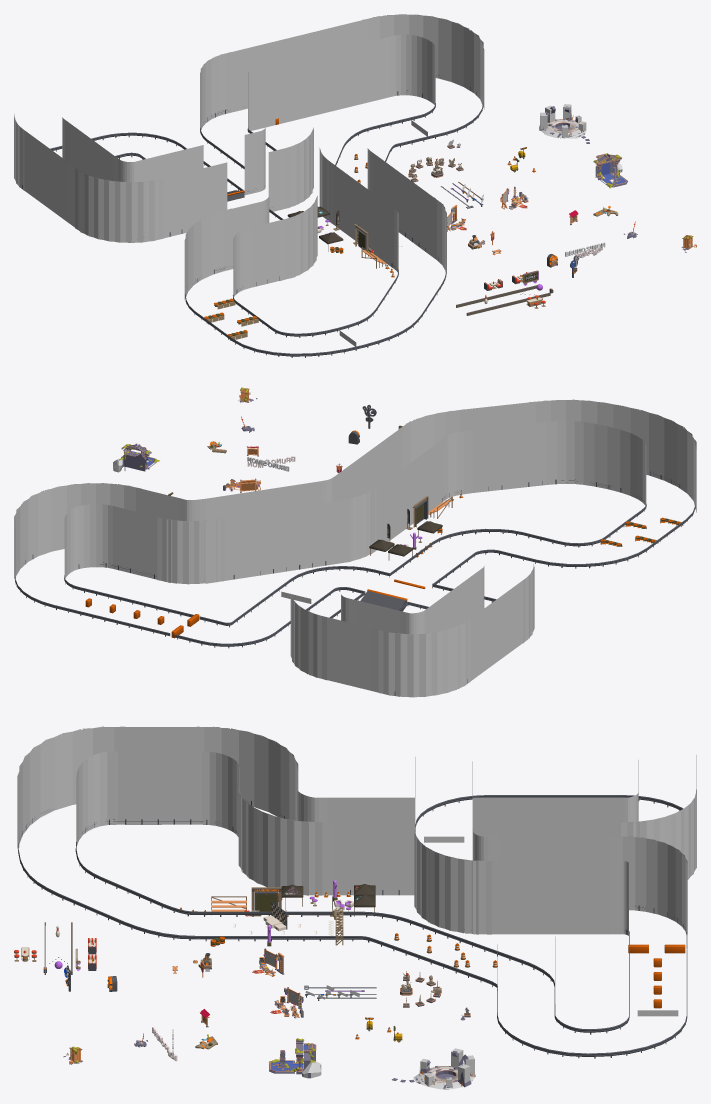
File: areas-compressed.glb
3 renders of one model, top to bottom at view 1: azimuth 30°, elevation 25°; view 2: azimuth 150°, elevation 25°; view 3: azimuth 270°, elevation 25°, orthographic. The views are drawn at different scales.
Parts seen in each view (by area): view 1: trimesh, refRailsPhysicalFixed, Cube089, Plane119_1, blocks; view 2: trimesh, refRailsPhysicalFixed, jump, Cube089, Cube088; view 3: trimesh, refRailsPhysicalFixed, Cube088, Cube089, Cube173.
Part boxes in pixels (<box>): trimesh: <box>14,14,484,299</box>; refRailsPhysicalFixed: <box>22,75,483,357</box>; Cube089: <box>593,153,627,188</box>; Plane119_1: <box>456,285,550,315</box>; blocks: <box>204,298,258,340</box>; trimesh: <box>14,399,696,697</box>; refRailsPhysicalFixed: <box>15,471,695,695</box>; jump: <box>360,579,425,611</box>; Cube089: <box>119,443,159,471</box>; Cube088: <box>370,496,452,560</box>; trimesh: <box>17,726,696,1021</box>; refRailsPhysicalFixed: <box>18,795,687,1058</box>; Cube088: <box>210,887,374,946</box>; Cube089: <box>269,1038,316,1078</box>; Cube173: <box>392,1051,475,1088</box>.
Bounding box in the file's own units: 169 × 27.61 × 169.
Materials: 23 (13 with a texture image).
